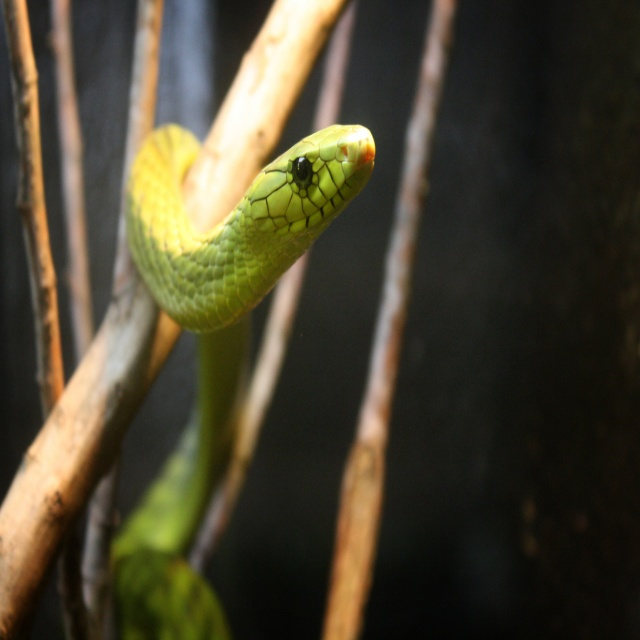Snake: (109, 124, 376, 640)
